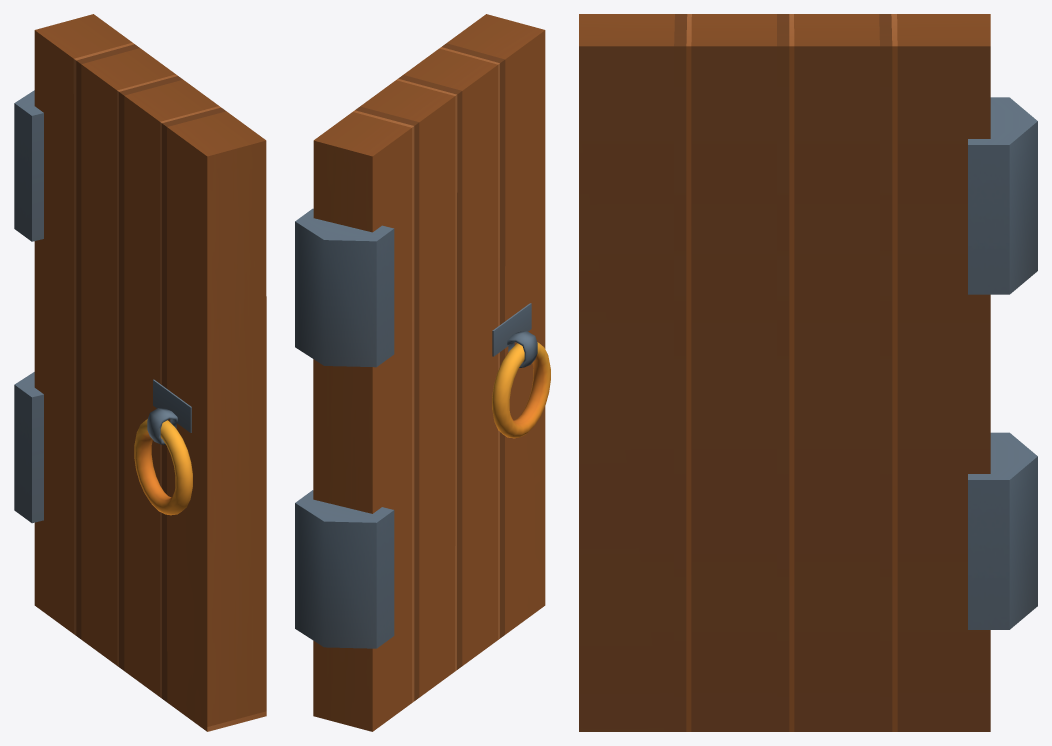
File: Door.FBX
The picture shows the model from 3 angles, left to right: view 1: azimuth 30°, elevation 25°; view 2: azimuth 150°, elevation 25°; view 3: azimuth 270°, elevation 25°; orthographic projection. The views are drawn at different scales.
Visible parts, largest first — view 1: Door; view 2: Door; view 3: Door.
Boxes of the visible parts, x1,y1,x2,y2 form: Door: (14,14,266,731); Door: (295,14,550,731); Door: (579,14,1037,731).
Bounding box in the file's own units: 0.3192 × 1.93 × 1.17.
